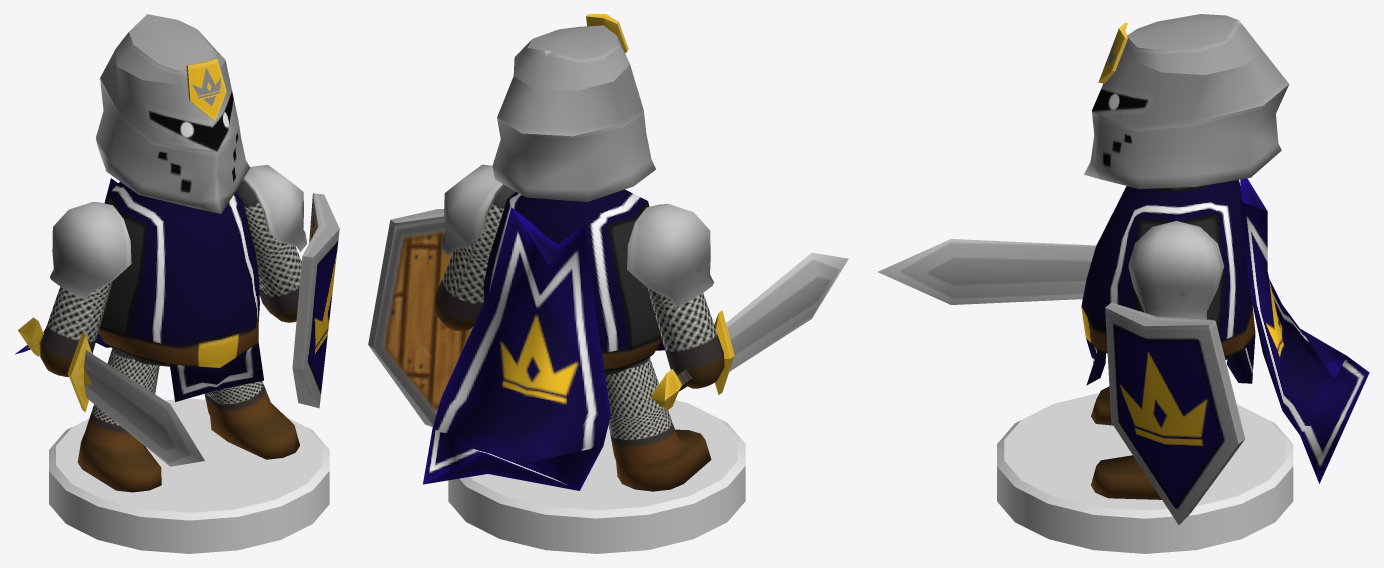
The model's file is Knight.FBX.
The picture shows the model from 3 angles, left to right: view 1: azimuth 30°, elevation 25°; view 2: azimuth 150°, elevation 25°; view 3: azimuth 270°, elevation 25°; orthographic projection. The views are drawn at different scales.
Parts seen in each view (by area): view 1: Body, Knight_base; view 2: Body, Knight_base; view 3: Body, Knight_base.
Boxes of the visible parts, left/top/right/bottom form: Body: left=15, top=14, right=339, bottom=492; Knight_base: left=49, top=398, right=329, bottom=553; Body: left=368, top=14, right=848, bottom=491; Knight_base: left=448, top=400, right=745, bottom=553; Body: left=878, top=14, right=1369, bottom=524; Knight_base: left=997, top=393, right=1293, bottom=553.
Size of the model in its own units: 49.16 by 69.16 by 65.46.
